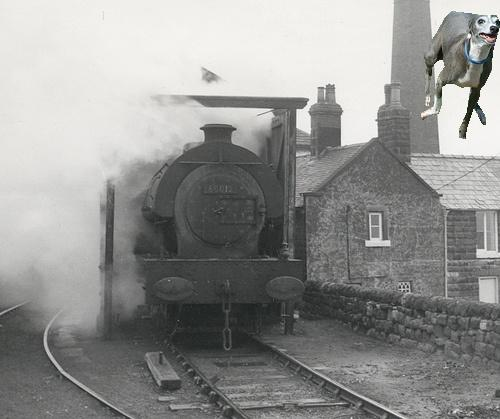tampered: (422, 12, 500, 139)
